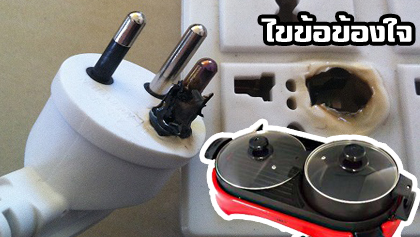Three_eye_plug: (169, 50, 420, 133)
